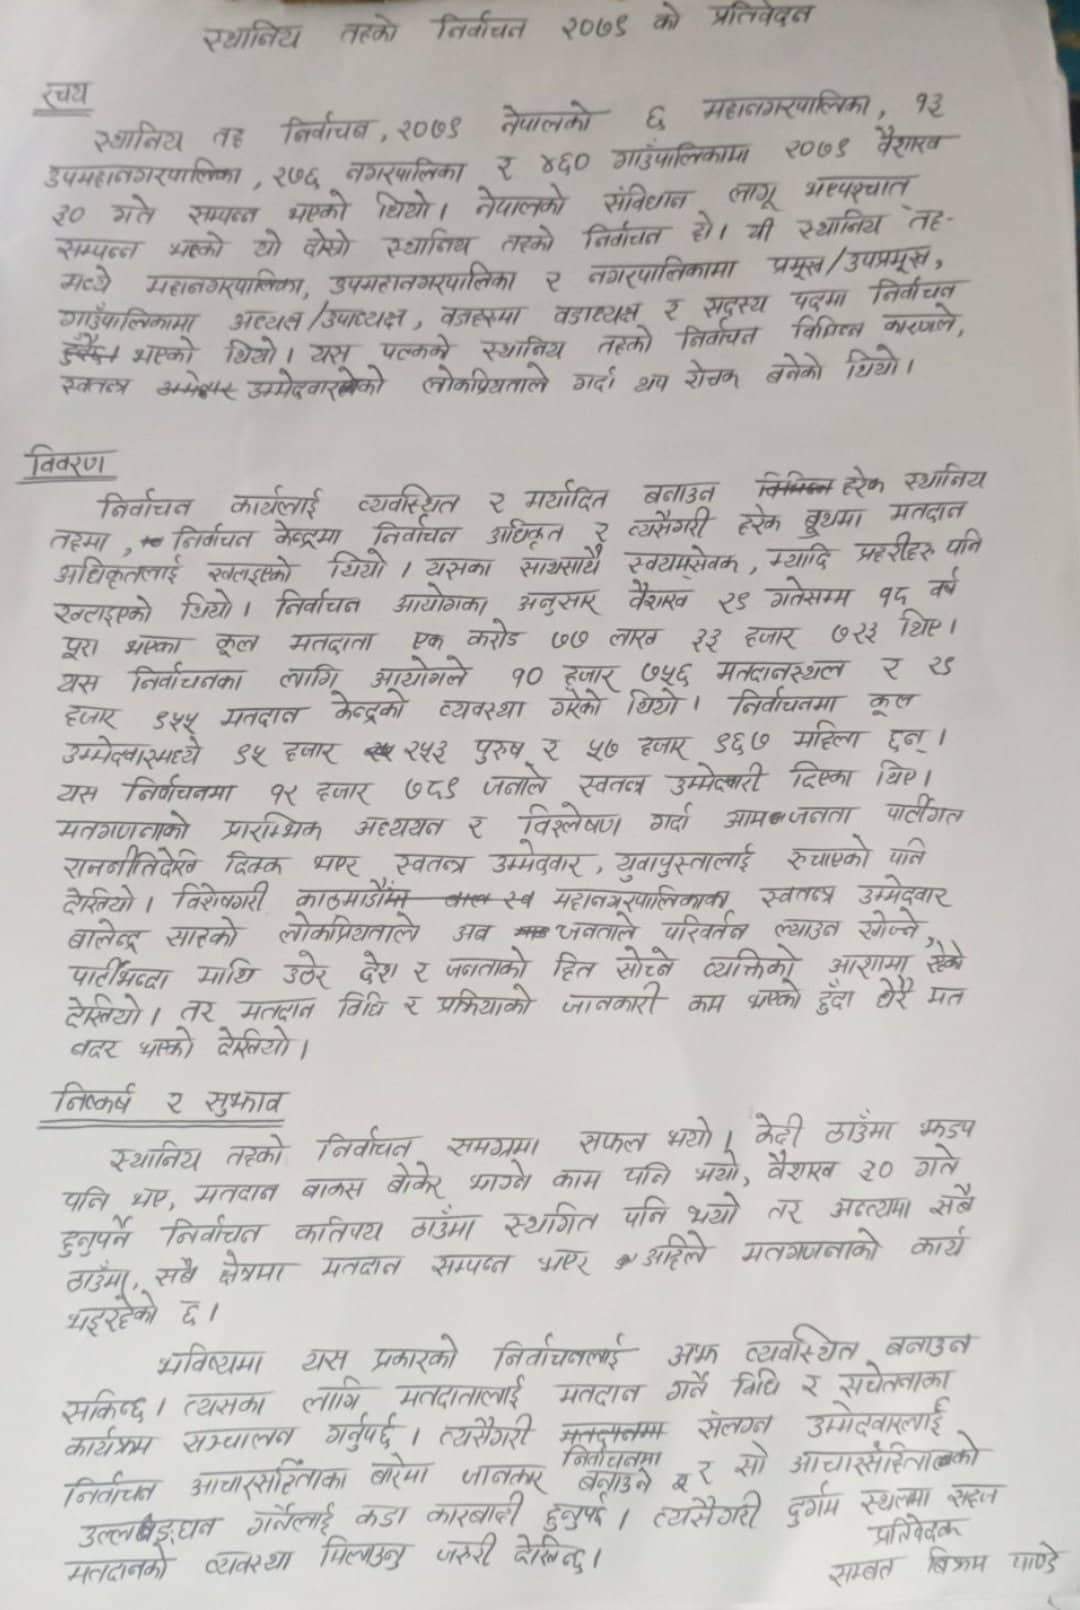text: (788, 1433, 990, 1477), (186, 1453, 350, 1498), (324, 264, 520, 296), (487, 1330, 629, 1375), (699, 89, 871, 125), (40, 160, 245, 190), (611, 841, 759, 882), (137, 268, 304, 304), (738, 1226, 884, 1264), (583, 255, 736, 292), (60, 735, 209, 771), (745, 1321, 862, 1367), (802, 1402, 949, 1438), (551, 882, 732, 911), (276, 910, 421, 946), (395, 1371, 524, 1411), (59, 844, 202, 879), (712, 651, 851, 687), (53, 807, 192, 844), (607, 140, 758, 172), (76, 1514, 221, 1547), (418, 362, 554, 396), (245, 369, 391, 401), (60, 1293, 159, 1340), (49, 302, 200, 333), (835, 1361, 947, 1400), (128, 660, 250, 697), (174, 1418, 295, 1455), (53, 556, 183, 589), (620, 541, 739, 577), (369, 1329, 463, 1375), (648, 1496, 763, 1533), (122, 771, 239, 807), (435, 980, 538, 1021), (722, 684, 846, 718), (354, 481, 470, 517), (315, 1124, 419, 1164), (419, 1489, 526, 1528), (89, 118, 192, 158), (522, 801, 623, 841), (107, 1138, 209, 1177), (217, 810, 328, 846), (58, 1549, 169, 1585), (64, 957, 174, 993), (201, 18, 304, 57), (369, 654, 471, 693), (245, 1498, 336, 1540), (667, 760, 767, 799), (489, 839, 586, 879), (699, 945, 802, 982), (558, 982, 661, 1020), (171, 877, 272, 915), (155, 1342, 268, 1376), (345, 153, 470, 183), (57, 1211, 135, 1259), (786, 830, 875, 872), (499, 1200, 603, 1236), (61, 1468, 162, 1505), (392, 582, 488, 621), (796, 201, 886, 242), (61, 991, 146, 1034), (315, 1536, 415, 1573), (800, 172, 915, 204), (433, 10, 535, 45), (436, 1414, 535, 1450), (510, 1533, 589, 1577), (47, 1077, 139, 1116), (228, 483, 325, 519), (493, 99, 597, 133), (856, 872, 956, 907), (61, 1426, 162, 1461), (93, 489, 199, 522), (51, 595, 157, 628), (626, 504, 715, 542), (59, 1388, 148, 1427), (276, 108, 374, 143), (521, 478, 618, 513), (215, 1247, 295, 1289), (846, 240, 932, 280), (444, 945, 532, 983), (472, 188, 571, 222), (782, 1480, 845, 1533), (482, 515, 568, 553), (374, 231, 479, 263), (293, 1214, 387, 1248), (20, 440, 111, 476), (202, 554, 293, 590), (600, 180, 693, 215), (457, 1458, 550, 1493), (765, 574, 852, 611), (710, 1, 817, 31), (159, 1215, 266, 1245), (576, 1461, 658, 1499), (272, 584, 369, 617), (63, 917, 146, 954), (556, 909, 639, 946), (558, 1441, 665, 1470), (640, 1230, 714, 1273), (198, 1083, 286, 1118), (676, 319, 765, 353), (609, 939, 677, 982), (820, 1110, 899, 1147), (212, 1026, 297, 1060), (513, 584, 604, 617), (350, 812, 447, 842), (331, 688, 410, 725), (661, 911, 753, 942), (865, 1514, 965, 1543), (58, 883, 137, 919), (324, 1411, 397, 1451), (542, 1492, 609, 1535), (49, 233, 145, 263), (882, 301, 964, 336), (299, 1373, 369, 1414), (202, 1549, 301, 1577), (440, 1132, 542, 1159), (287, 625, 377, 657), (295, 879, 386, 910), (178, 1387, 272, 1417), (853, 1479, 932, 1515), (432, 302, 529, 331), (264, 519, 345, 554), (582, 219, 665, 253), (371, 517, 464, 547), (378, 1161, 446, 1201), (168, 519, 256, 551), (824, 948, 912, 980), (852, 906, 926, 944), (683, 1189, 749, 1232), (427, 1248, 513, 1280), (722, 176, 788, 217), (797, 507, 871, 543), (777, 133, 855, 168), (871, 125, 949, 160), (859, 531, 937, 566), (900, 462, 990, 492), (217, 701, 306, 731), (884, 1332, 976, 1361), (870, 276, 967, 304), (188, 1180, 284, 1207), (790, 718, 863, 754), (763, 1148, 839, 1183), (533, 1242, 595, 1285), (840, 343, 906, 383), (886, 493, 967, 525), (546, 1379, 645, 1405), (879, 797, 965, 827), (827, 1191, 914, 1221), (63, 1259, 135, 1295), (317, 1251, 407, 1280), (165, 915, 242, 948), (364, 1451, 432, 1489), (515, 551, 607, 578), (436, 695, 529, 723), (282, 190, 353, 227), (189, 954, 260, 991), (474, 336, 570, 363), (681, 353, 747, 392), (626, 576, 692, 615), (222, 1132, 288, 1170), (758, 879, 839, 910), (823, 1555, 896, 1590), (410, 1209, 485, 1242), (337, 11, 403, 49), (372, 186, 438, 224), (389, 850, 466, 882), (433, 1532, 498, 1570), (221, 333, 283, 372), (128, 335, 204, 368), (746, 977, 808, 1017), (466, 1161, 536, 1195), (49, 371, 137, 399), (790, 313, 870, 343), (424, 551, 499, 583), (240, 992, 315, 1024), (1004, 1539, 1069, 1576), (225, 304, 303, 335), (575, 768, 646, 801), (558, 7, 632, 40), (790, 758, 857, 793), (761, 354, 826, 390), (325, 547, 391, 583), (318, 306, 411, 331), (391, 113, 470, 142), (699, 289, 775, 319), (762, 542, 838, 572), (695, 1408, 771, 1438), (906, 1226, 972, 1261), (183, 201, 265, 229), (378, 333, 457, 362), (463, 616, 526, 652), (180, 584, 236, 624), (639, 476, 720, 504), (550, 301, 642, 325), (165, 227, 229, 262), (729, 1364, 785, 1404), (276, 657, 341, 691), (221, 846, 288, 879), (499, 221, 560, 255), (593, 331, 664, 362), (278, 948, 329, 991), (575, 1126, 648, 1154), (763, 249, 828, 282), (626, 683, 682, 721), (751, 1109, 804, 1148), (636, 727, 691, 765), (334, 986, 389, 1023), (482, 766, 551, 797), (352, 1496, 412, 1529), (661, 1367, 715, 1404), (106, 192, 164, 227), (896, 604, 947, 642), (299, 228, 356, 263), (36, 78, 96, 111), (299, 1173, 366, 1201), (788, 799, 862, 825), (135, 1032, 196, 1063), (536, 147, 595, 180), (923, 1545, 990, 1574), (741, 618, 798, 652), (771, 913, 840, 941), (616, 1195, 670, 1230), (838, 463, 888, 500), (551, 947, 601, 985), (664, 1114, 715, 1151), (58, 263, 118, 294), (712, 727, 775, 757), (398, 772, 460, 803), (914, 1114, 985, 1140), (49, 528, 115, 557), (736, 503, 783, 542), (312, 777, 371, 809), (268, 161, 324, 194), (472, 733, 527, 766), (925, 1183, 979, 1217), (122, 631, 184, 660), (667, 1339, 724, 1370), (309, 850, 360, 885), (151, 1254, 202, 1289), (912, 1142, 961, 1180), (57, 1180, 110, 1214), (812, 976, 855, 1018), (946, 1477, 1000, 1510), (922, 940, 969, 977), (694, 1152, 744, 1187), (828, 617, 881, 650), (884, 719, 928, 758), (648, 800, 699, 834), (551, 687, 603, 719), (351, 950, 399, 985), (211, 628, 260, 662), (636, 660, 695, 688), (61, 701, 121, 729), (278, 738, 337, 765), (870, 974, 912, 1012), (560, 659, 616, 688), (547, 1167, 607, 1193), (734, 1436, 773, 1477), (401, 734, 450, 766), (67, 1034, 122, 1063), (57, 629, 102, 663), (864, 689, 915, 719), (299, 1347, 353, 1375), (786, 288, 853, 310), (55, 668, 102, 698), (763, 1192, 806, 1224), (570, 365, 621, 393), (450, 916, 495, 946), (630, 368, 673, 400), (875, 757, 917, 789), (307, 340, 357, 368), (53, 777, 102, 805), (941, 527, 985, 558), (231, 740, 270, 775), (723, 804, 771, 832), (683, 989, 732, 1017), (624, 1161, 673, 1188), (250, 228, 290, 260), (885, 834, 926, 866), (542, 624, 592, 651), (925, 982, 972, 1010), (925, 565, 963, 599), (853, 1158, 898, 1187), (46, 201, 92, 229), (903, 207, 949, 235), (908, 89, 951, 118), (742, 215, 781, 247), (609, 625, 661, 650), (715, 589, 756, 618), (153, 709, 199, 734), (124, 1180, 170, 1205), (651, 1, 685, 35), (479, 486, 511, 521), (536, 263, 568, 299), (876, 578, 910, 610), (507, 664, 547, 691), (180, 998, 219, 1024), (210, 124, 246, 153), (493, 149, 520, 188), (792, 1370, 824, 1402), (921, 653, 961, 678), (410, 625, 447, 652), (687, 624, 726, 650), (585, 738, 623, 763), (264, 782, 301, 807), (397, 989, 428, 1020), (177, 1295, 206, 1327), (642, 100, 670, 131), (656, 293, 683, 324), (586, 517, 614, 547), (536, 733, 564, 763), (463, 815, 491, 845), (689, 213, 714, 247), (875, 653, 903, 682), (694, 1457, 717, 1489), (407, 959, 432, 987), (162, 1089, 187, 1115)
